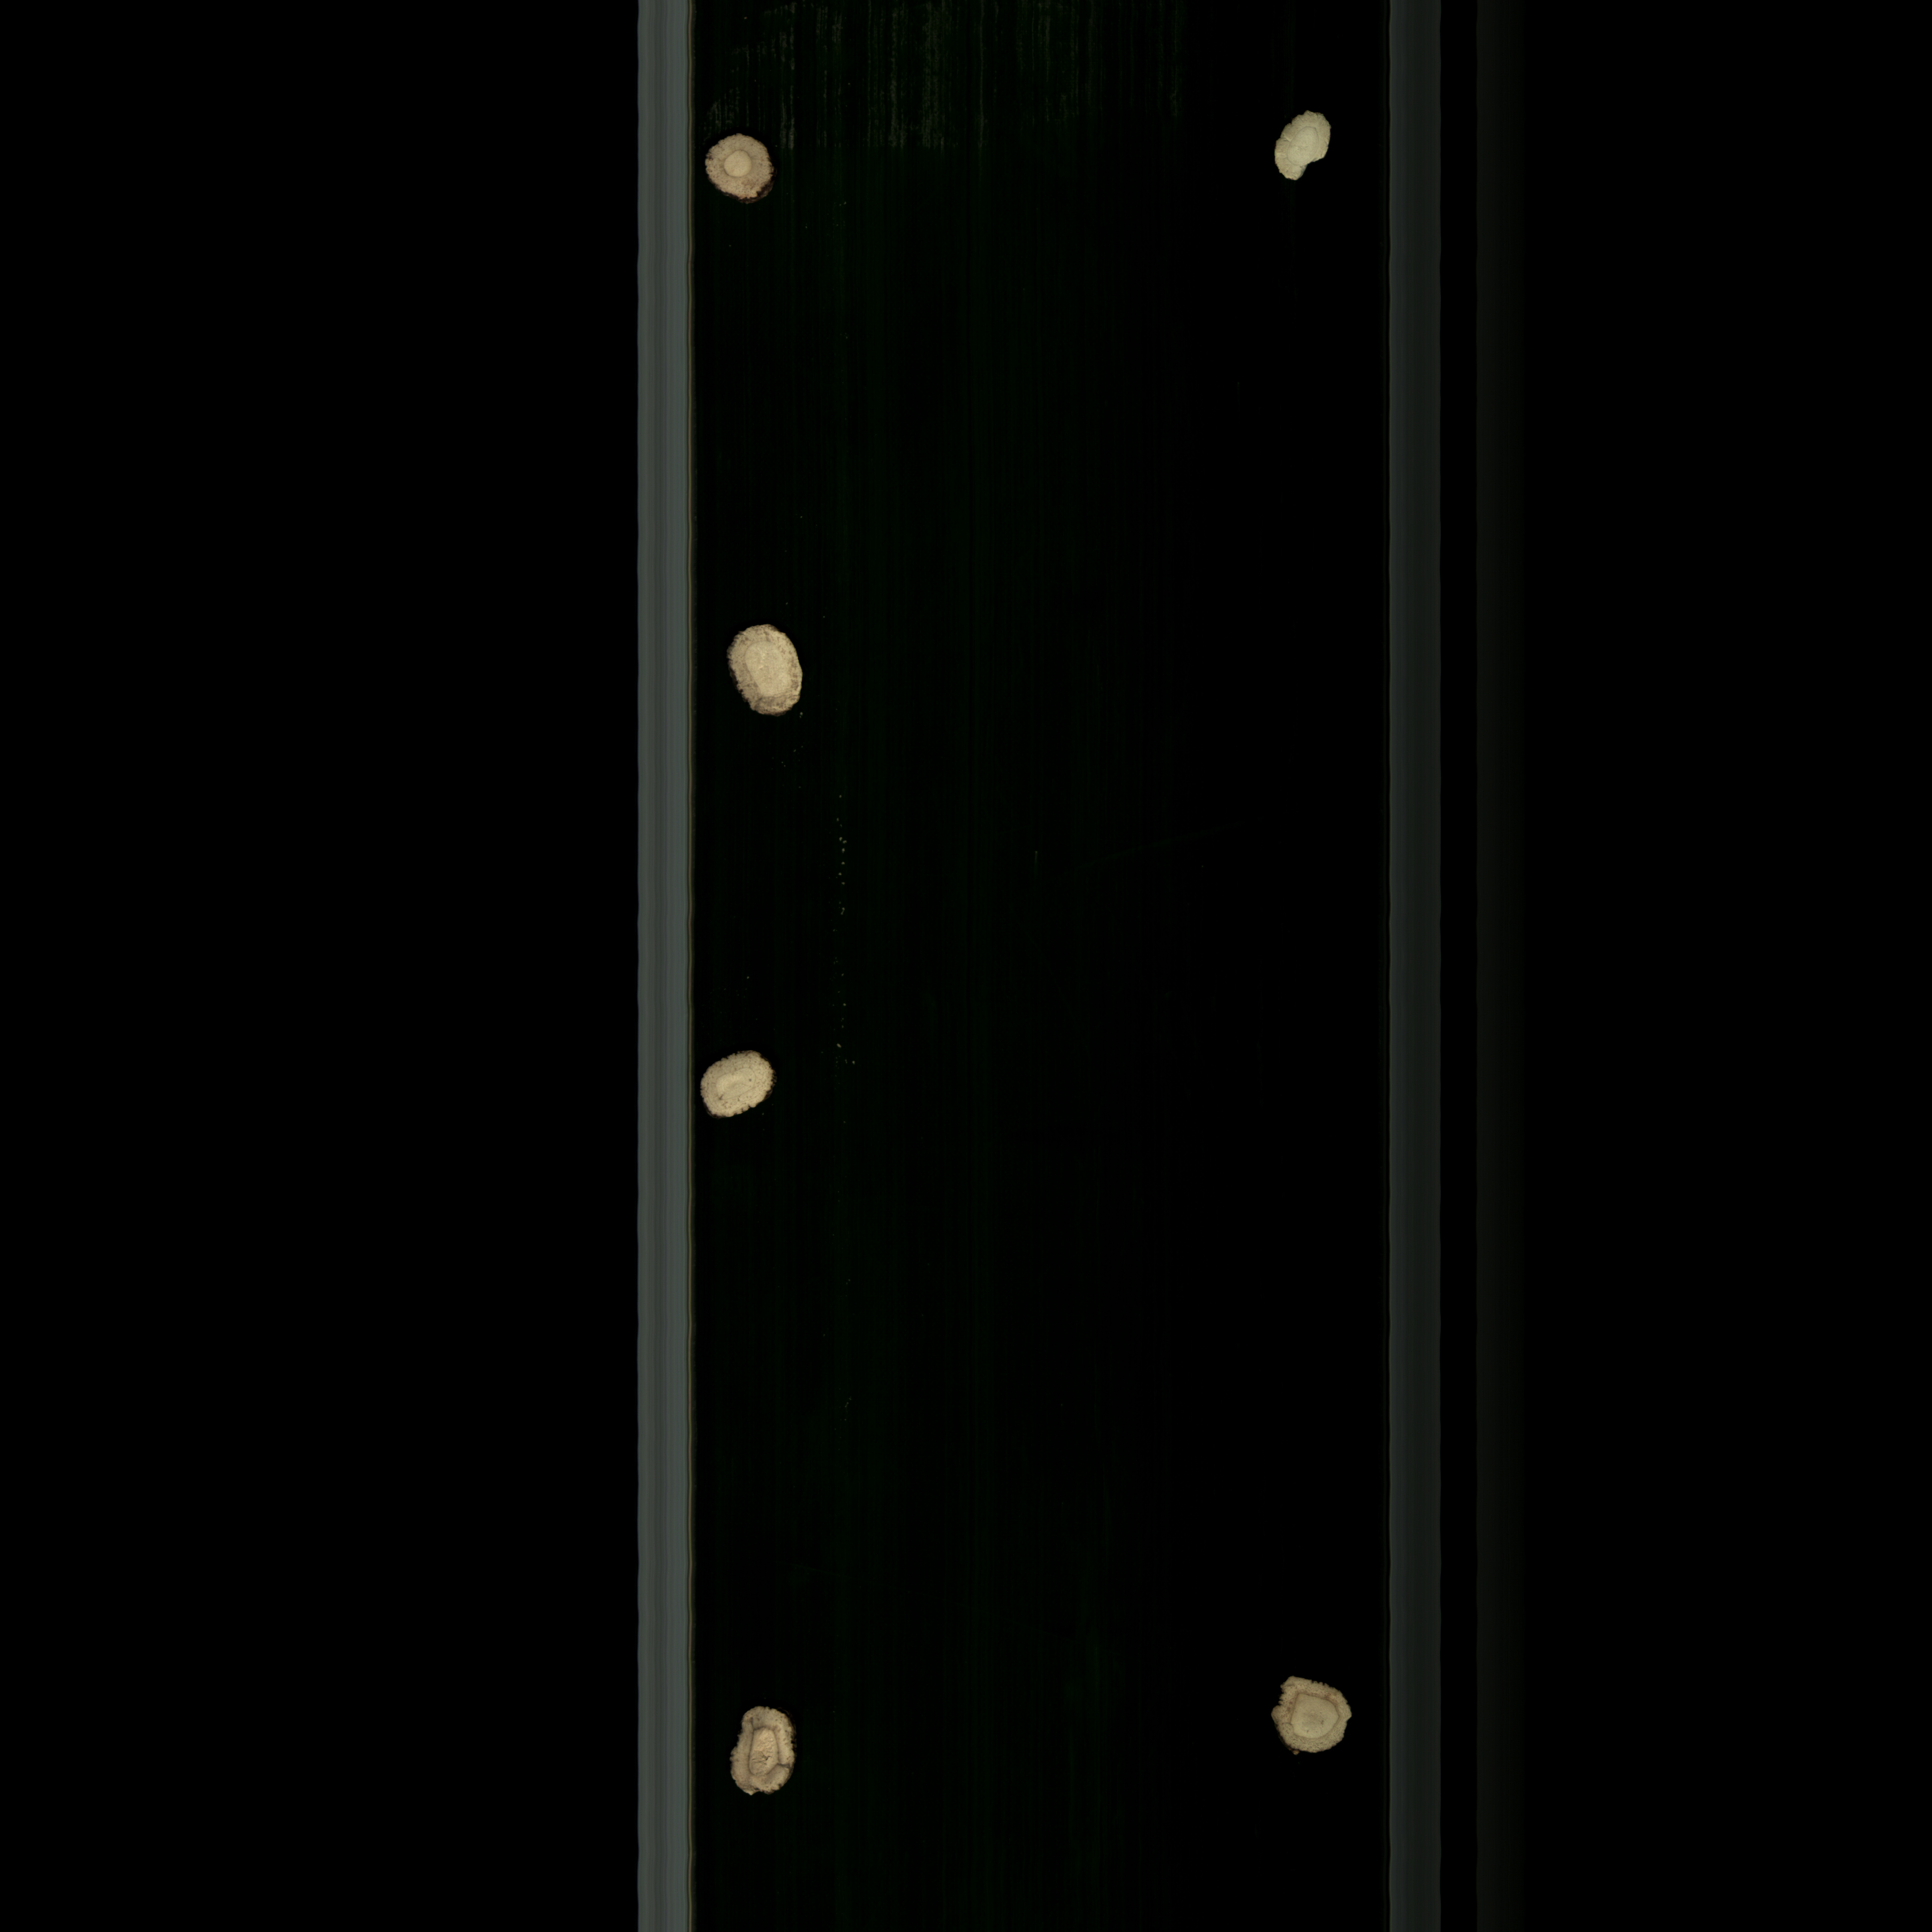debris: (1269, 99, 1336, 193)
moldy: (725, 1693, 807, 1810), (1263, 1667, 1357, 1767), (699, 131, 786, 211)
